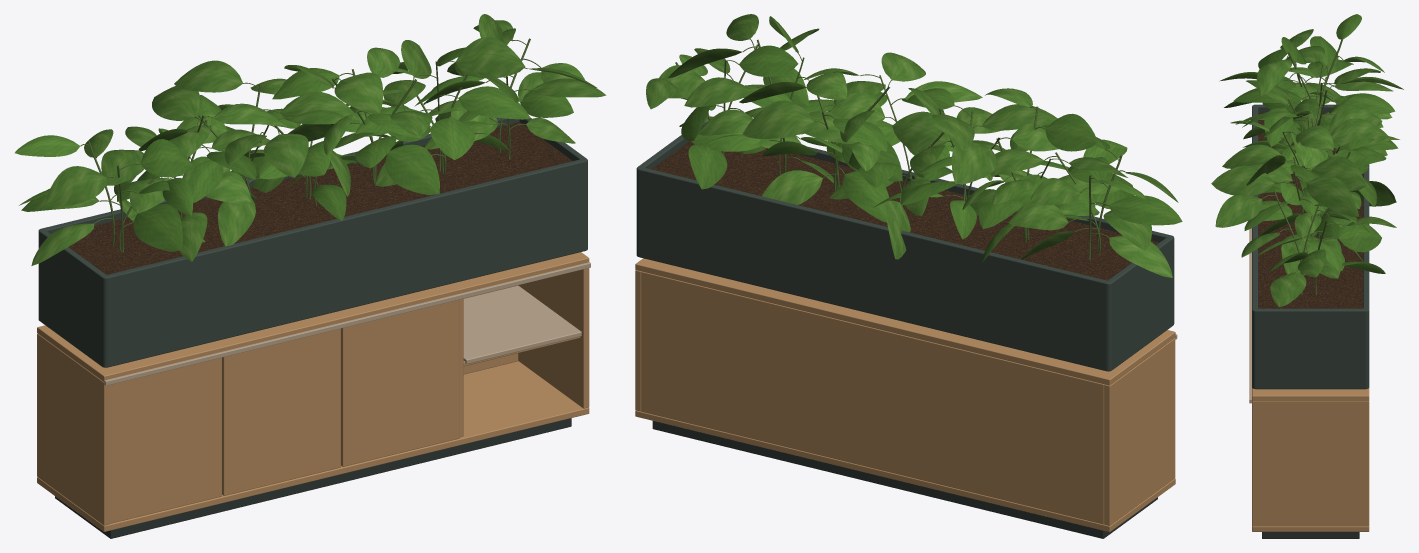
The model's file is botanicalDivider-10.glb.
The picture shows the model from 3 angles, left to right: view 1: azimuth 30°, elevation 25°; view 2: azimuth 150°, elevation 25°; view 3: azimuth 270°, elevation 25°; orthographic projection. The views are drawn at different scales.
Visible parts, largest first — view 1: Planter_pothos_leaves, Planter_oiled_oak, StoragePlanter_Door (×3), StoragePlanter_Side (×2), Planter_loose_soil, StoragePlanter_Bottom, StoragePlanter_Top, StoragePlanter_OpenShelf, StoragePlanter_Plinth, Planter_pothos_stems, StoragePlanter_AccentRail, StoragePlanter_Divider; view 2: StoragePlanter_Back, Planter_pothos_leaves, Planter_oiled_oak, Planter_loose_soil, StoragePlanter_Side (×2), StoragePlanter_Top, StoragePlanter_Plinth, StoragePlanter_Bottom, Planter_pothos_stems; view 3: Planter_pothos_leaves, StoragePlanter_Side, Planter_oiled_oak, Planter_loose_soil, Planter_pothos_stems, StoragePlanter_Top, StoragePlanter_Bottom, StoragePlanter_Plinth, StoragePlanter_AccentRail.
Boxes of the visible parts, x1=… form: Planter_pothos_leaves: x1=15, y1=14, x2=606, y2=265; Planter_oiled_oak: x1=38, y1=117, x2=587, y2=367; StoragePlanter_Door (×3): x1=109, y1=299, x2=459, y2=523; StoragePlanter_Side (×2): x1=37, y1=268, x2=589, y2=525; Planter_loose_soil: x1=68, y1=122, x2=572, y2=274; StoragePlanter_Bottom: x1=37, y1=361, x2=589, y2=531; StoragePlanter_Top: x1=37, y1=252, x2=589, y2=381; StoragePlanter_OpenShelf: x1=463, y1=285, x2=581, y2=363; StoragePlanter_Plinth: x1=55, y1=418, x2=571, y2=538; Planter_pothos_stems: x1=80, y1=38, x2=541, y2=252; StoragePlanter_AccentRail: x1=104, y1=262, x2=590, y2=385; StoragePlanter_Divider: x1=459, y1=298, x2=463, y2=437; StoragePlanter_Back: x1=641, y1=271, x2=1104, y2=524; Planter_pothos_leaves: x1=646, y1=14, x2=1182, y2=277; Planter_oiled_oak: x1=636, y1=122, x2=1174, y2=371; Planter_loose_soil: x1=651, y1=141, x2=1159, y2=280; StoragePlanter_Side (×2): x1=635, y1=270, x2=1175, y2=525; StoragePlanter_Top: x1=635, y1=258, x2=1175, y2=385; StoragePlanter_Plinth: x1=652, y1=421, x2=1157, y2=538; StoragePlanter_Bottom: x1=635, y1=410, x2=1175, y2=532; Planter_pothos_stems: x1=675, y1=39, x2=1125, y2=259; Planter_pothos_leaves: x1=1211, y1=14, x2=1403, y2=307; StoragePlanter_Side: x1=1252, y1=401, x2=1369, y2=526; Planter_oiled_oak: x1=1252, y1=104, x2=1369, y2=389; Planter_loose_soil: x1=1258, y1=113, x2=1363, y2=308; Planter_pothos_stems: x1=1262, y1=39, x2=1350, y2=295; StoragePlanter_Top: x1=1252, y1=387, x2=1369, y2=401; StoragePlanter_Bottom: x1=1252, y1=526, x2=1369, y2=531; StoragePlanter_Plinth: x1=1262, y1=532, x2=1359, y2=538; StoragePlanter_AccentRail: x1=1249, y1=228, x2=1251, y2=403.
Bounding box in the file's own units: 2.26 × 1.58 × 0.7924.
Materials: 10 (2 with a texture image).
